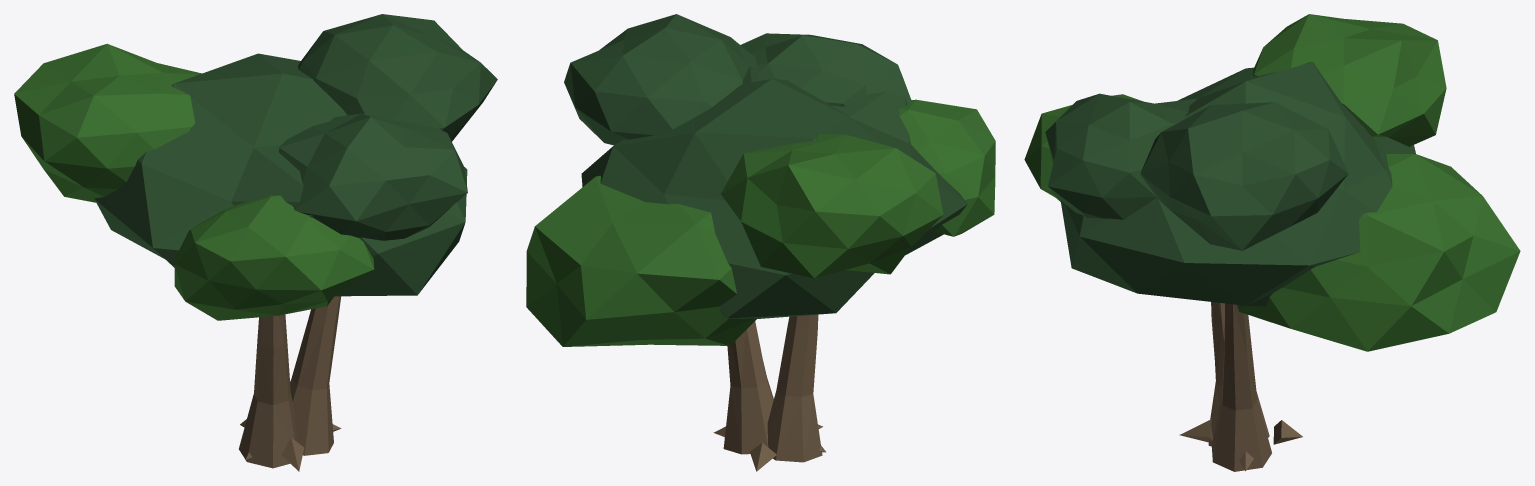
File: HS_LP_Tree_Yew_01.fbx
The picture shows the model from 3 angles, left to right: view 1: azimuth 30°, elevation 25°; view 2: azimuth 150°, elevation 25°; view 3: azimuth 270°, elevation 25°; orthographic projection.
Visible parts, largest first — view 1: HS_LP_Tree_Yew_01; view 2: HS_LP_Tree_Yew_01; view 3: HS_LP_Tree_Yew_01.
Boxes of the visible parts, x1,y1,x2,y2 form: HS_LP_Tree_Yew_01: (14,14,497,471); HS_LP_Tree_Yew_01: (526,14,995,471); HS_LP_Tree_Yew_01: (1024,14,1520,471).
Bounding box in the file's own units: 349 × 330 × 379.
